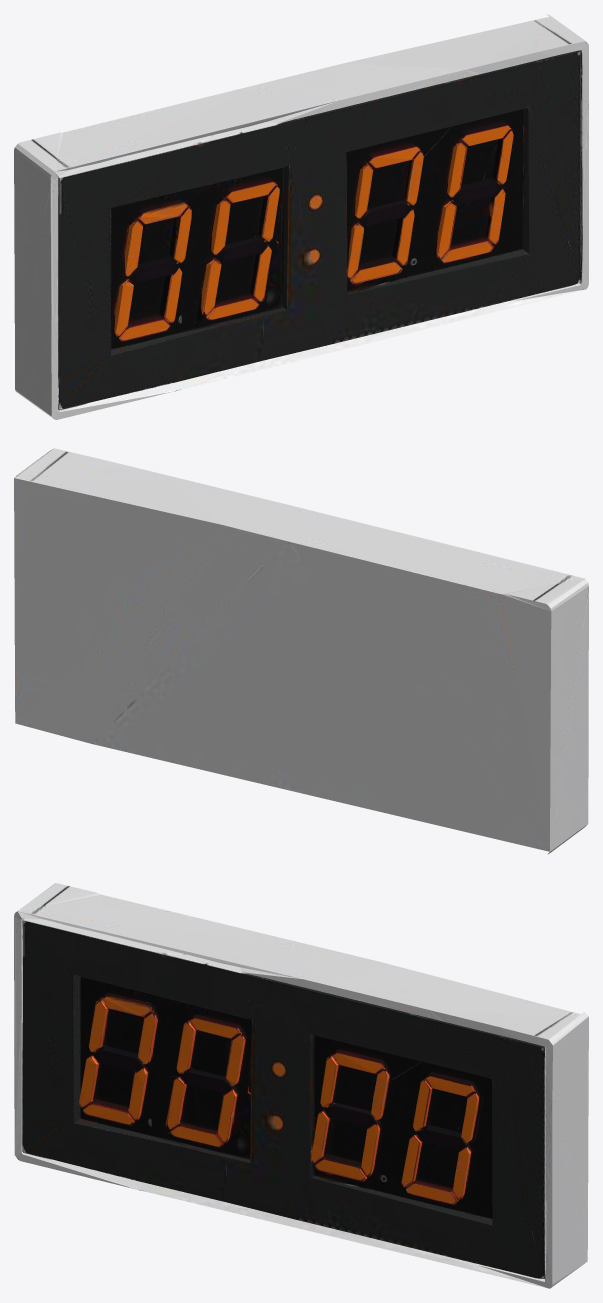
File: gym_scoreboard.glb
The picture shows the model from 3 angles, top to bottom: view 1: azimuth 30°, elevation 25°; view 2: azimuth 150°, elevation 25°; view 3: azimuth 330°, elevation 25°; orthographic projection.
Visible parts, largest first — view 1: gym_scoreboard; view 2: gym_scoreboard; view 3: gym_scoreboard.
Part boxes in pixels (box(x1,y1,x2,y2)): gym_scoreboard: box(14, 14, 588, 419); gym_scoreboard: box(14, 448, 588, 854); gym_scoreboard: box(14, 883, 588, 1288).
Size of the model in its own units: 2.4 by 1.07 by 0.2906.
1 material, 1 textured.
